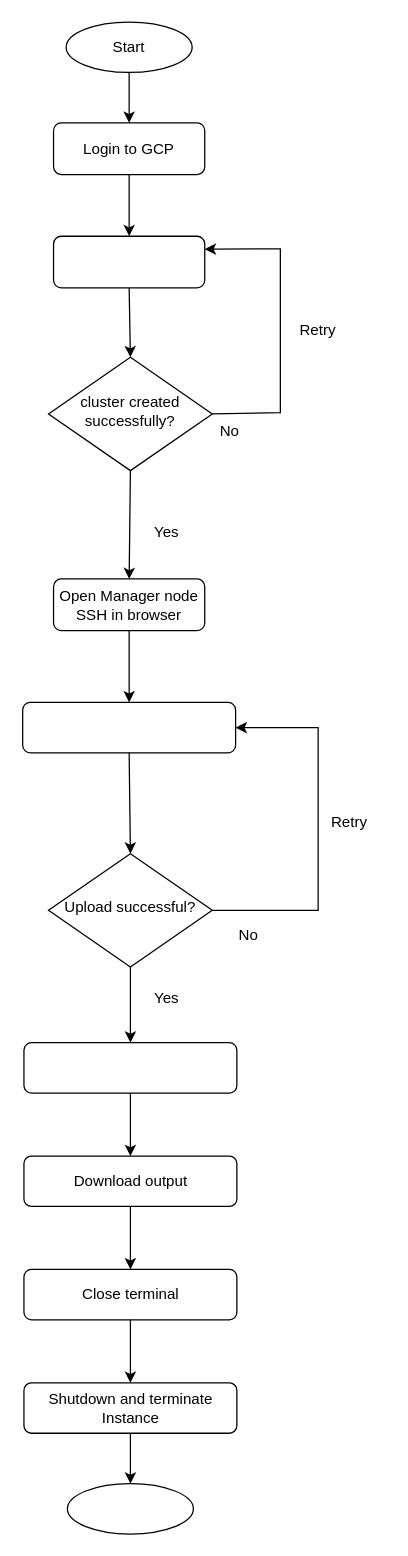
The diagram is 408 pixels wide and 1556 high, and some of its shapes have lost their labels. The box of each missing label's shape, as (x1, y1, x2, y2) in pixels:
Create cluster: (52, 235, 205, 288)
End: (66, 1482, 193, 1534)
run "spark-submit jar-file-name" command: (23, 1041, 237, 1093)
Upload Jar files and cleaned-reut-009.sgm file: (21, 701, 236, 753)
